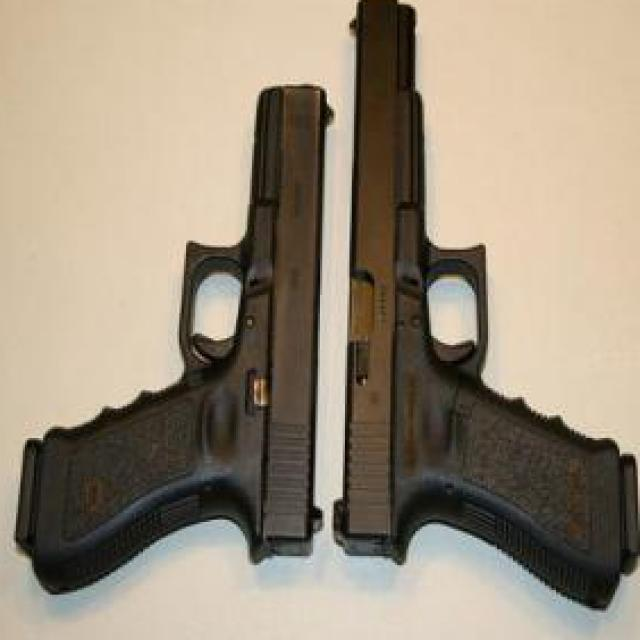pistol: (331, 0, 640, 608), (7, 84, 332, 599)
